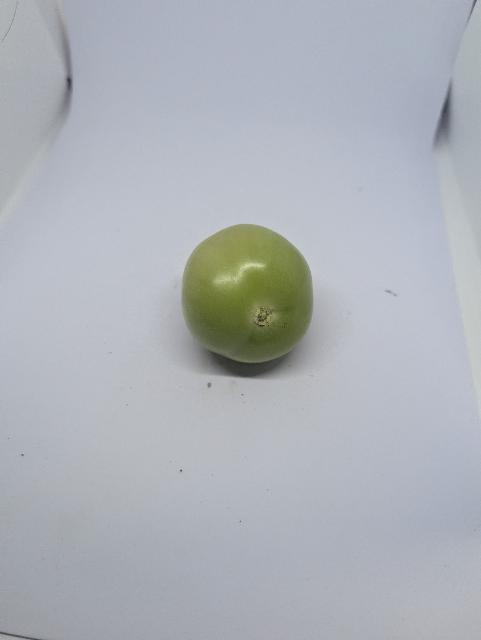green: (180, 221, 318, 367)
